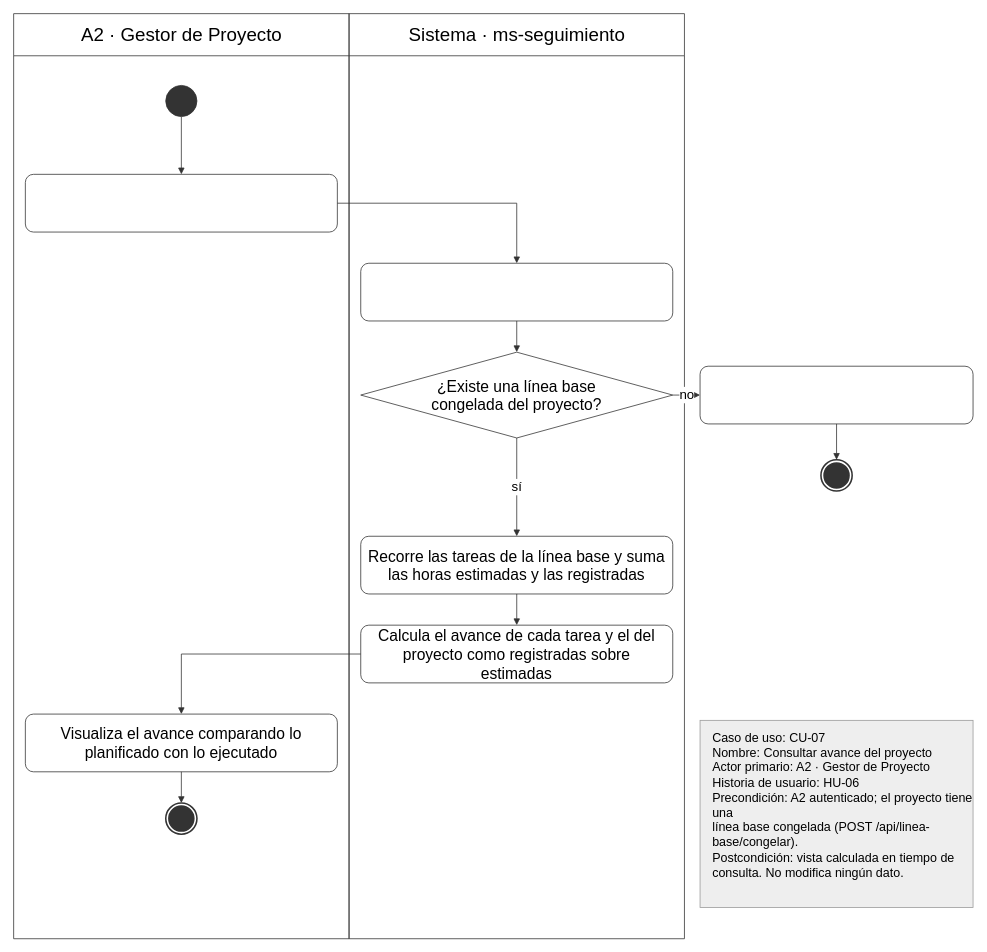
This 987x952 diagram has some shape labels left out. The shapes that lost their labels are listed below. From the top down, each one's box as (x1, y1, x2, y2) in pixels, then its label:
(25, 174, 337, 232): Accede al proyecto y selecciona la opción «Avance»
(360, 262, 673, 321): Recibe GET /api/avance/por-proyecto/{id} y busca la línea base del proyecto
(699, 365, 973, 424): HTTP 404 · No hay línea base congelada para el proyecto
